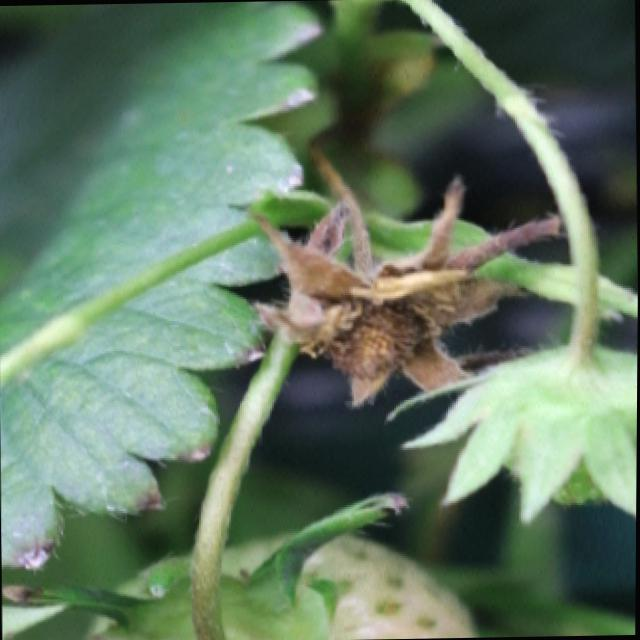Gray Mold: (252, 146, 567, 407)
